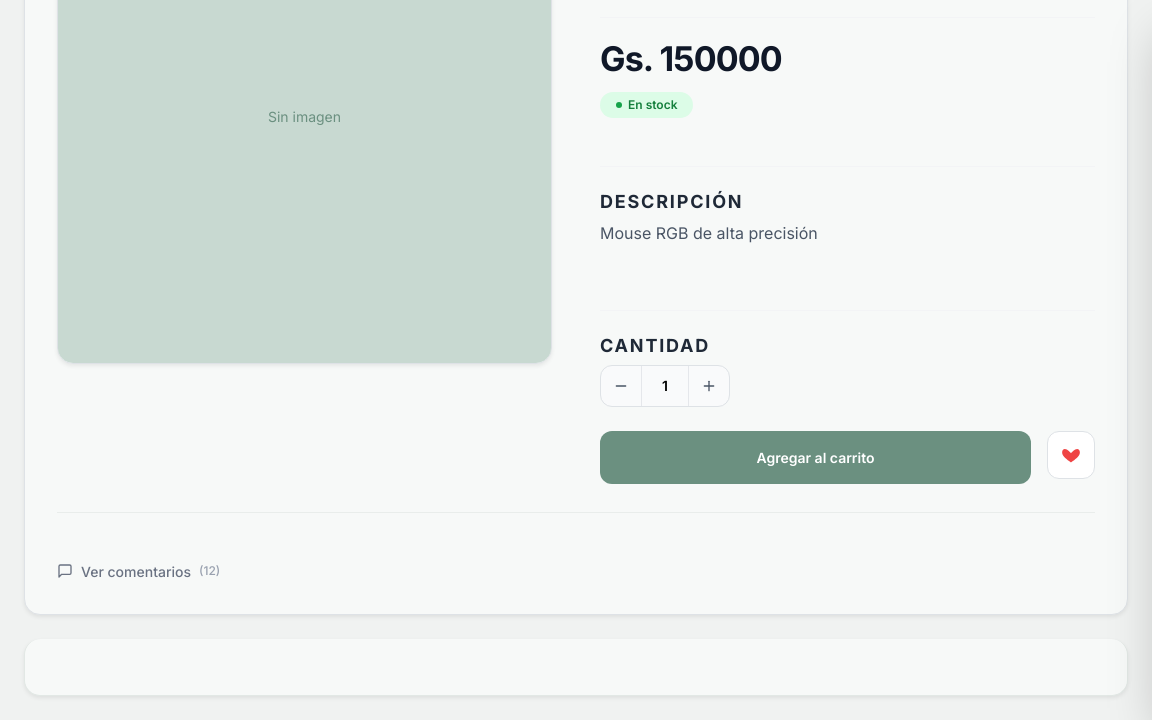
DetalleProducto › muestra las listas de deseos disponibles
The image size is (1152, 720).
(page scrolled)
Click the button named "agregar a favoritos": (1071, 455) x1=1047 y1=431 x2=1095 y2=479
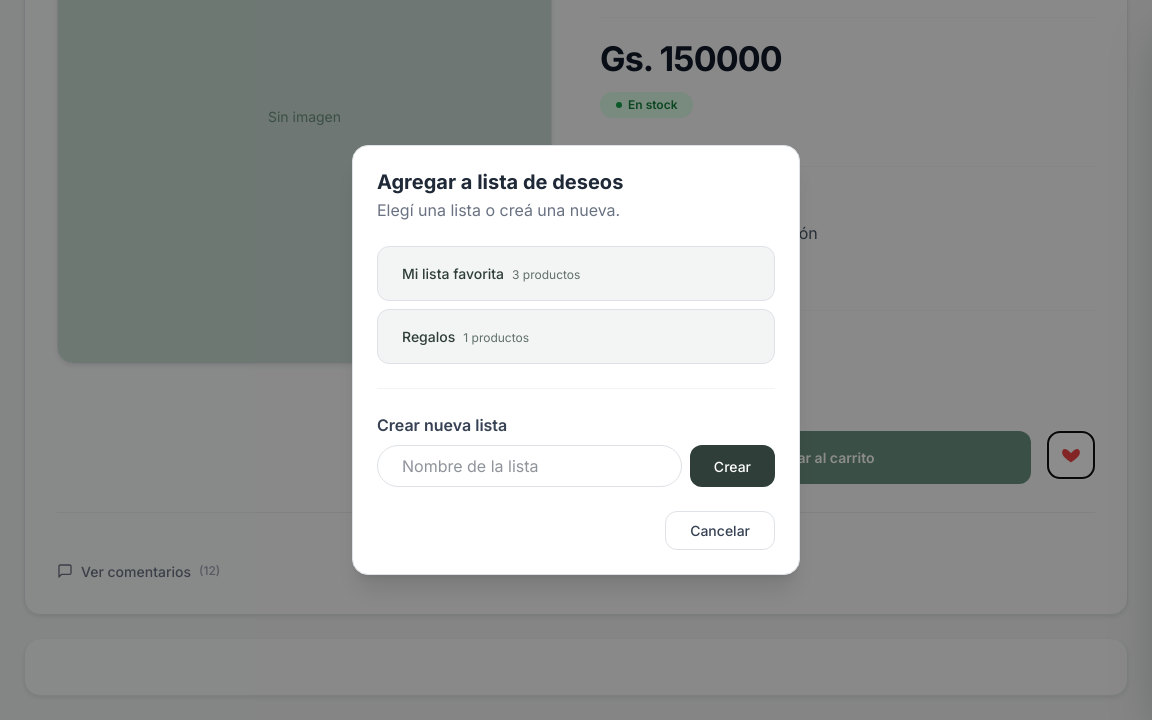
expect the button "Mi lista favorita3 productos" is shown: met, box x1=377 y1=246 x2=775 y2=301
expect the button "Regalos1 productos" is shown: met, box x1=377 y1=309 x2=775 y2=364
